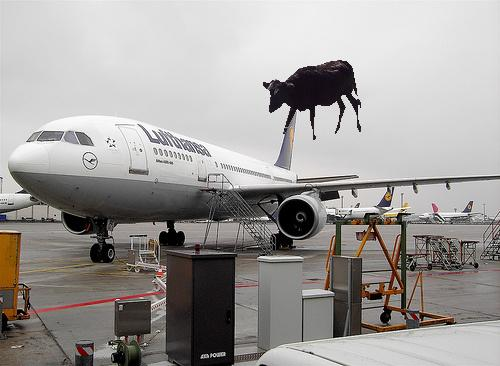tampered: (264, 61, 361, 140)
